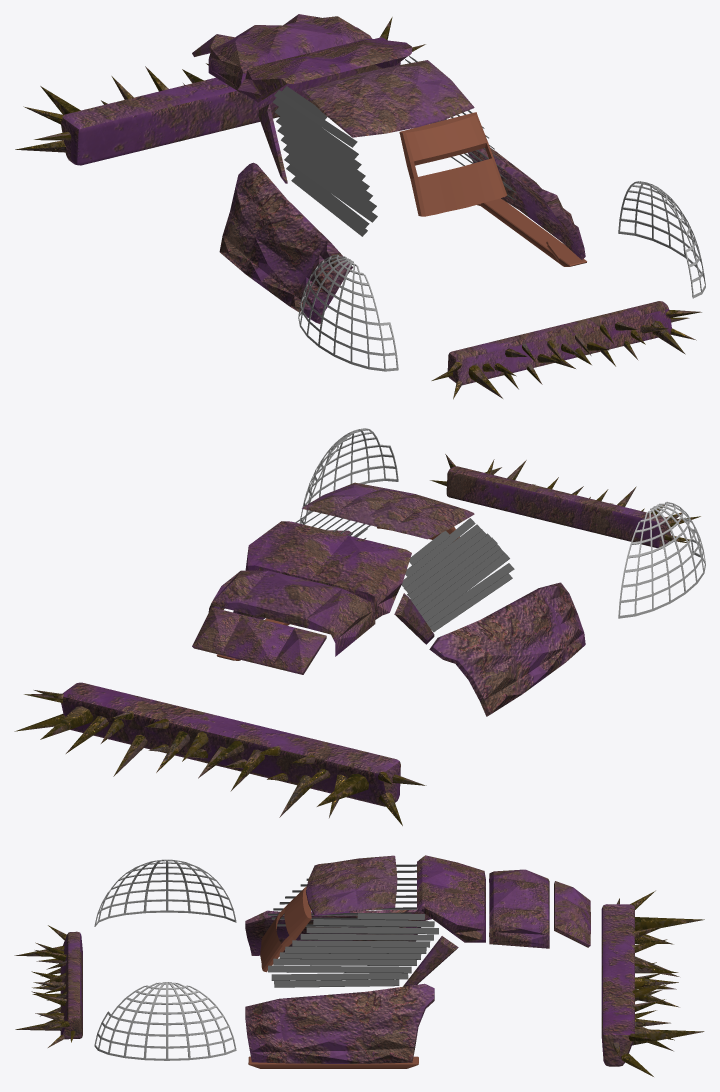
Rendered from Buggy Armor.fbx.
The picture shows the model from 3 angles, top to bottom: view 1: azimuth 30°, elevation 25°; view 2: azimuth 150°, elevation 25°; view 3: azimuth 270°, elevation 25°; orthographic projection. The views are drawn at different scales.
Parts seen in each view (by area): view 1: Panel_7_Geo, Bumper, Front_Bumper, Panel_4_Geo, Window_Visors, WindShield, Panel_1_Geo, Panel_3_Geo, Wheel_Guard_R, Wheel_Guard_L, Skid_2_Geo, Panel_6_Geo (+1 smaller); view 2: Bumper, Panel_7_Geo, Panel_3_Geo, Front_Bumper, Window_Visors, Panel_1_Geo, Panel_2_Geo, Panel_4_Geo, Wheel_Guard_R, Wheel_Guard_L, Panel_6_Geo; view 3: Panel_7_Geo, Window_Visors, Bumper, Panel_3_Geo, Panel_4_Geo, Panel_1_Geo, Front_Bumper, Wheel_Guard_L, Wheel_Guard_R, Panel_2_Geo, WindShield, Skid_2_Geo (+1 smaller).
Part boxes in pixels (x1,y1,x2,y2): Panel_7_Geo: (219, 119, 585, 323); Bumper: (15, 17, 425, 165); Front_Bumper: (431, 301, 701, 399); Panel_4_Geo: (302, 60, 474, 137); Window_Visors: (272, 56, 516, 236); WindShield: (399, 112, 507, 216); Panel_1_Geo: (208, 16, 372, 92); Panel_3_Geo: (238, 39, 411, 102); Wheel_Guard_R: (298, 254, 398, 371); Wheel_Guard_L: (618, 181, 705, 298); Skid_2_Geo: (477, 198, 586, 266); Panel_6_Geo: (258, 104, 287, 183); Bumper: (14, 682, 426, 825); Panel_7_Geo: (233, 530, 585, 716); Panel_3_Geo: (245, 521, 411, 619); Front_Bumper: (430, 454, 700, 547); Window_Visors: (295, 511, 514, 632); Panel_1_Geo: (208, 570, 375, 656); Panel_2_Geo: (192, 607, 326, 674); Panel_4_Geo: (302, 482, 474, 539); Wheel_Guard_R: (618, 502, 705, 618); Wheel_Guard_L: (299, 428, 398, 524); Panel_6_Geo: (394, 593, 434, 644); Panel_7_Geo: (245, 908, 434, 1063); Window_Visors: (268, 864, 438, 987); Bumper: (601, 890, 704, 1076); Panel_3_Geo: (417, 855, 485, 942); Panel_4_Geo: (306, 855, 397, 915); Panel_1_Geo: (489, 869, 549, 948); Front_Bumper: (14, 925, 82, 1047); Wheel_Guard_L: (94, 982, 236, 1060); Wheel_Guard_R: (94, 859, 236, 926); Panel_2_Geo: (554, 881, 590, 947); WindShield: (260, 886, 311, 972); Skid_2_Geo: (248, 1056, 418, 1068).
Size of the model in its own units: 1.8 by 0.7482 by 3.3.
